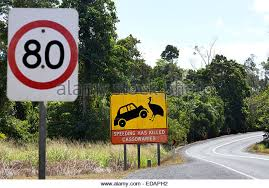Speed_limit_80km: (8, 20, 77, 90)
